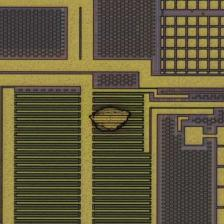BLOCK ETCH: (88, 103, 134, 135)
